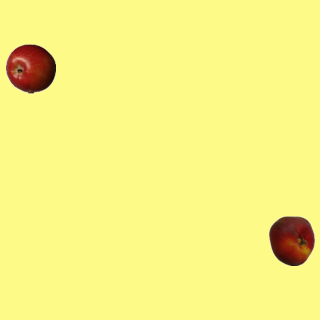Apple Braeburn: (5, 43, 55, 93)
Nectarine Flat: (266, 215, 316, 265)
